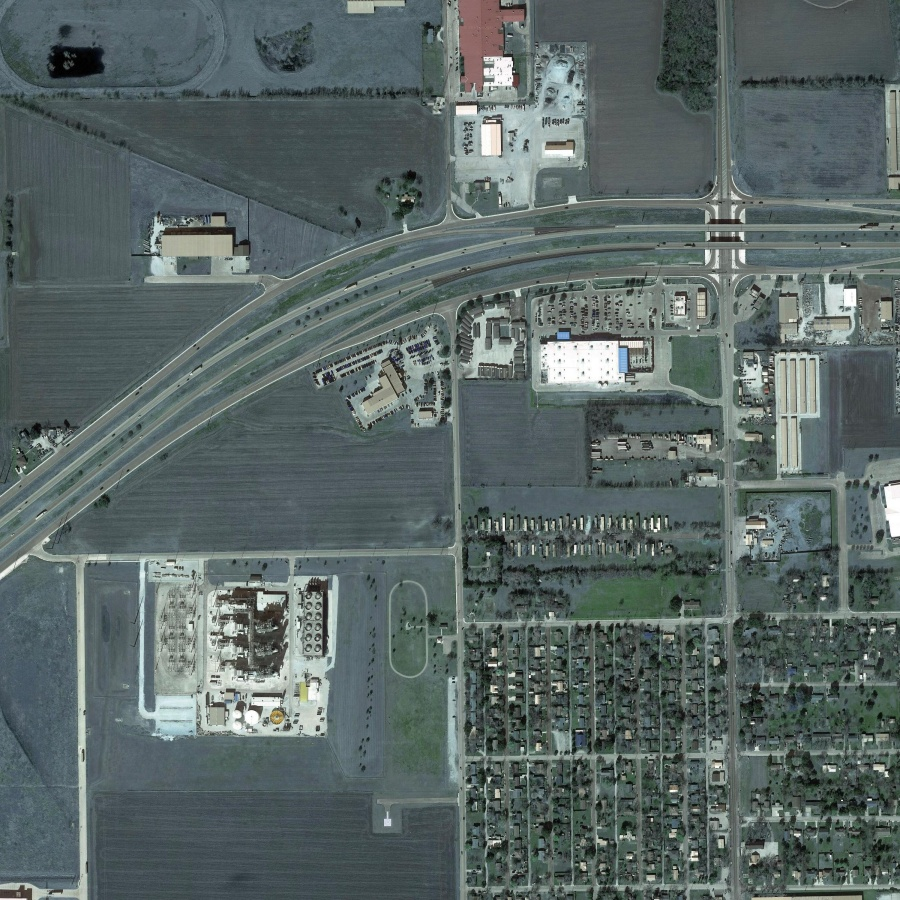PowerPlant: (141, 554, 335, 743)
